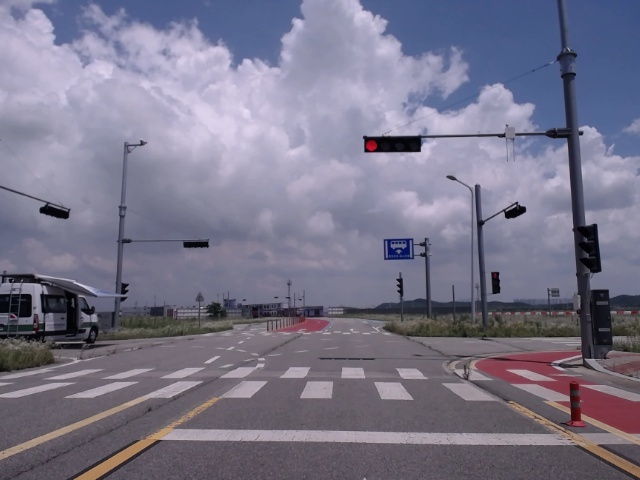red_4: (364, 136, 422, 153)
